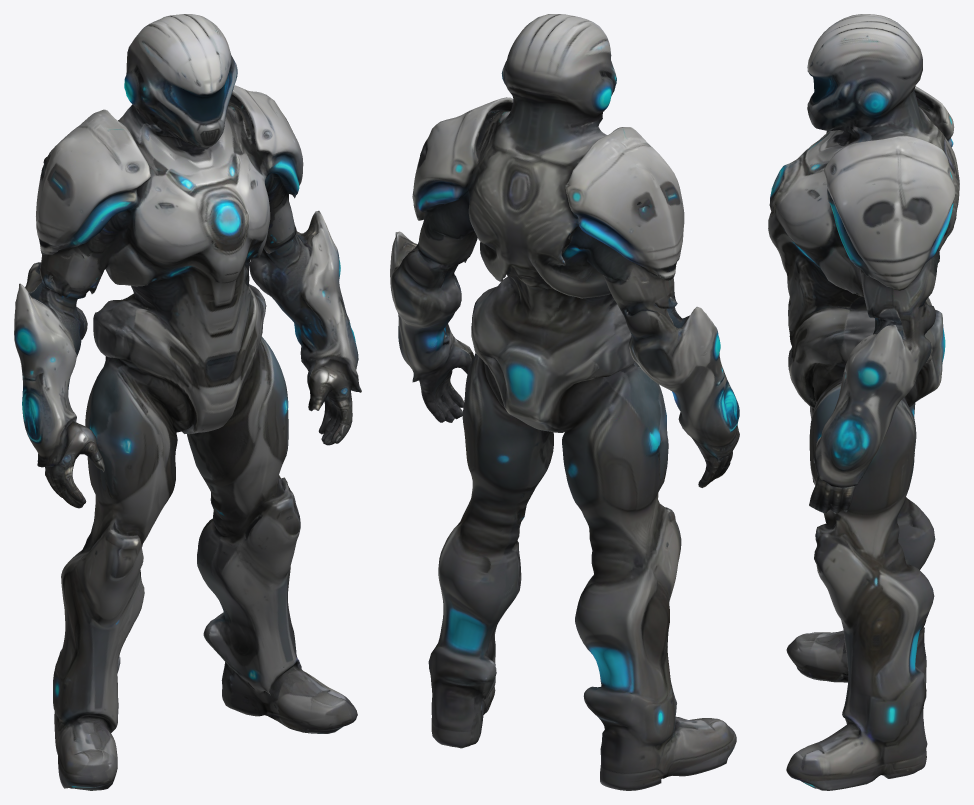
File: uploads_files_6203010_Futuristic+Combat+Robot+Soldier+(1).glb
3 views of the same model, side by side, from view 1: azimuth 30°, elevation 25°; view 2: azimuth 150°, elevation 25°; view 3: azimuth 270°, elevation 25° (orthographic). The views are drawn at different scales.
Size of the model in its own units: 0.9431 by 2 by 0.4937.
Materials: 1 (1 with a texture image).
